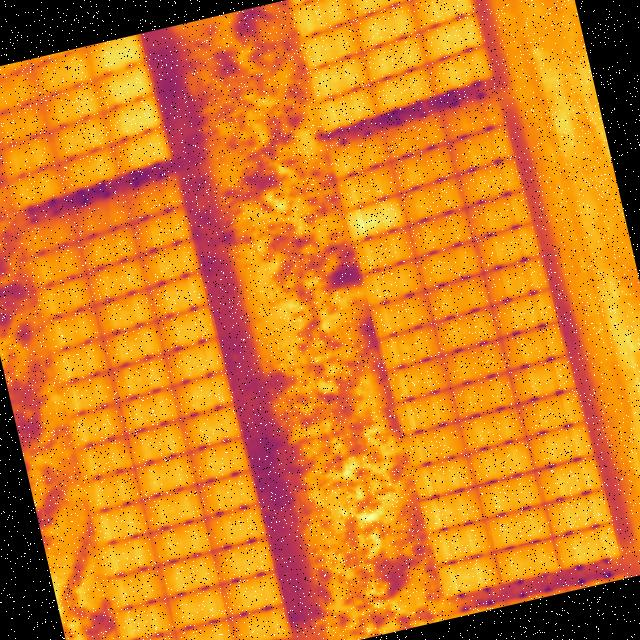Hotspot: (112, 98, 162, 134), (351, 199, 398, 235), (104, 69, 152, 104), (98, 38, 142, 67)
